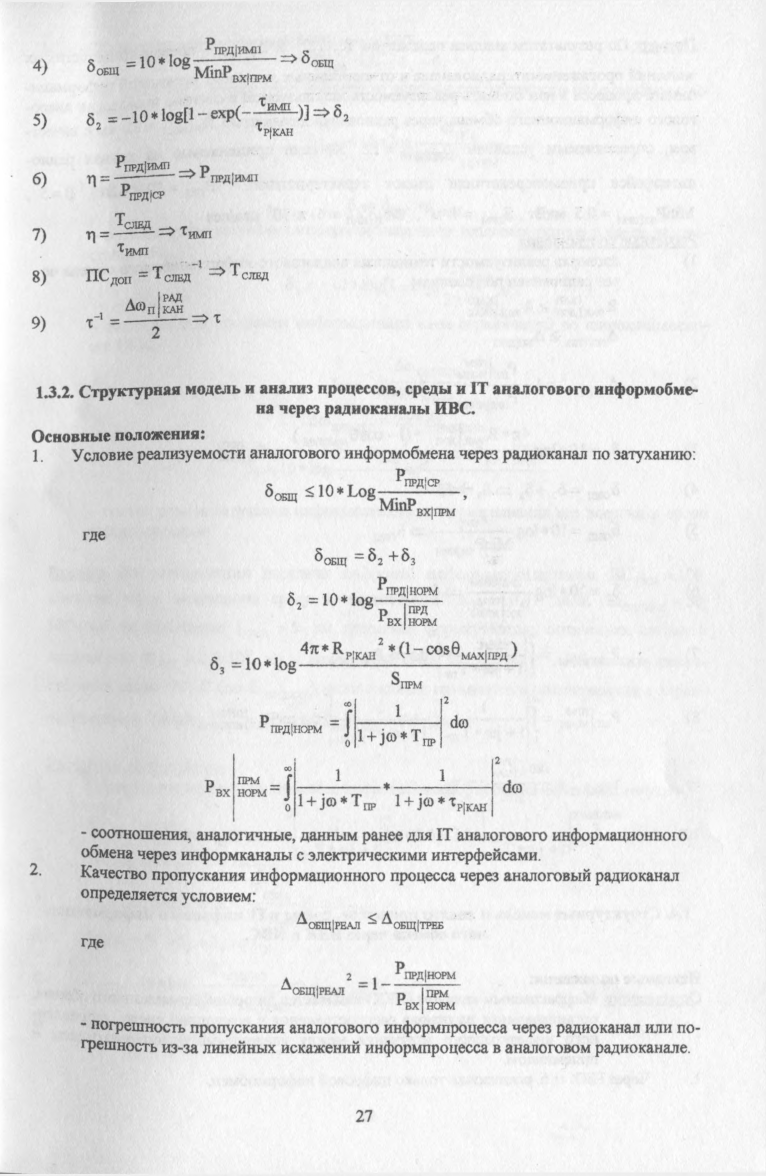P.вх.прм: (219, 65, 276, 84)
P.прд.имп: (202, 29, 265, 59), (112, 149, 173, 170)
P.прд.ср: (119, 184, 168, 205)
T.след: (149, 259, 192, 285), (114, 212, 154, 230)
Δω.п.р.кан: (123, 291, 184, 316)
δ.2: (77, 108, 107, 135)
δ.общ: (82, 57, 124, 78)
η: (80, 225, 96, 245), (87, 169, 98, 192)
τ: (79, 313, 95, 333)
τ.имп: (114, 242, 149, 257), (257, 95, 290, 110)
τ.р.кан: (250, 120, 294, 136)
ПС.доп: (85, 264, 134, 287)
